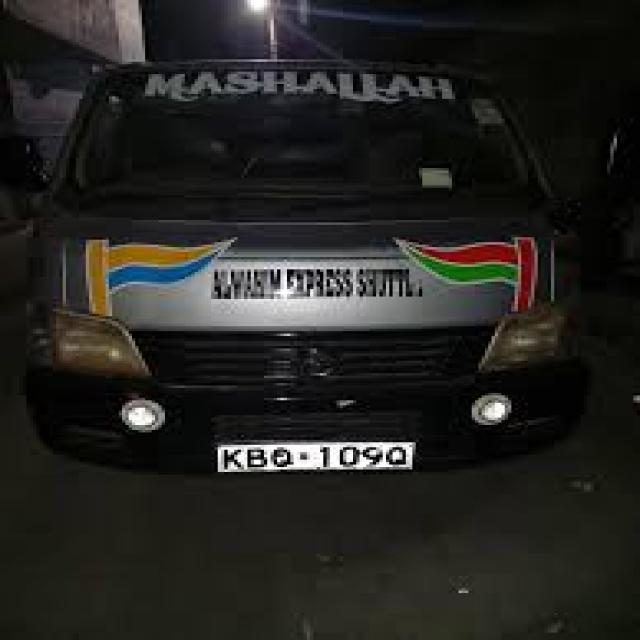matatu: (26, 26, 640, 506)
